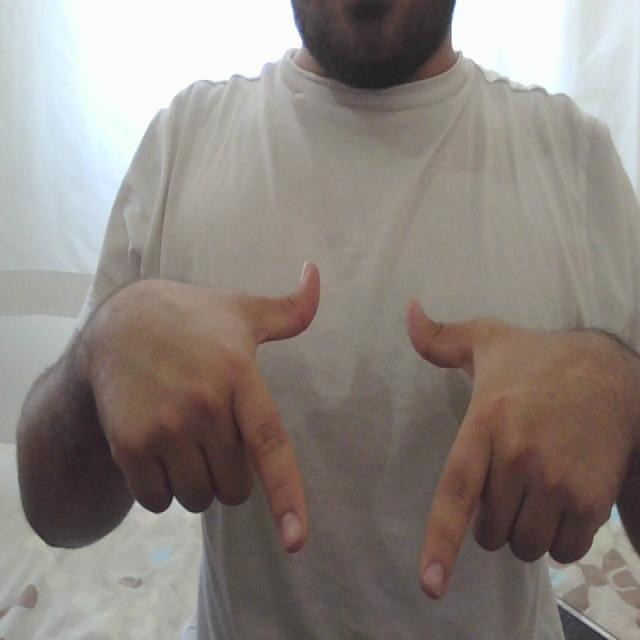Nerede: (220, 253, 502, 602)
